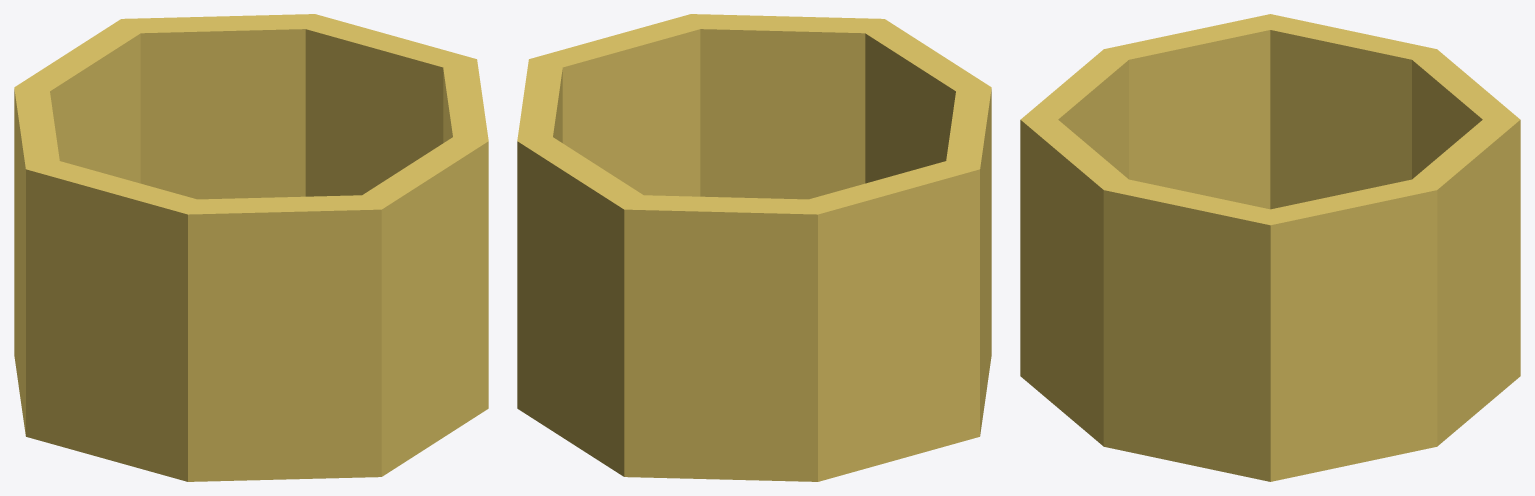
Rendered from basket.glb.
3 views of the same model, side by side, from view 1: azimuth 30°, elevation 25°; view 2: azimuth 150°, elevation 25°; view 3: azimuth 270°, elevation 25° (orthographic). The views are drawn at different scales.
Visible parts, largest first — view 1: basket; view 2: basket; view 3: basket.
Boxes of the visible parts, bbox=[...] form: basket: bbox=[14, 14, 488, 481]; basket: bbox=[517, 14, 991, 481]; basket: bbox=[1020, 14, 1520, 481].
Size of the model in its own units: 2.65 by 1.5 by 2.65.
